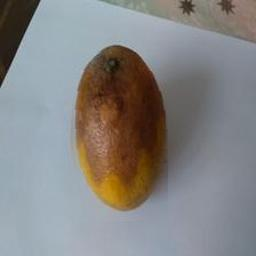Orange Rotten: (65, 42, 168, 221)
